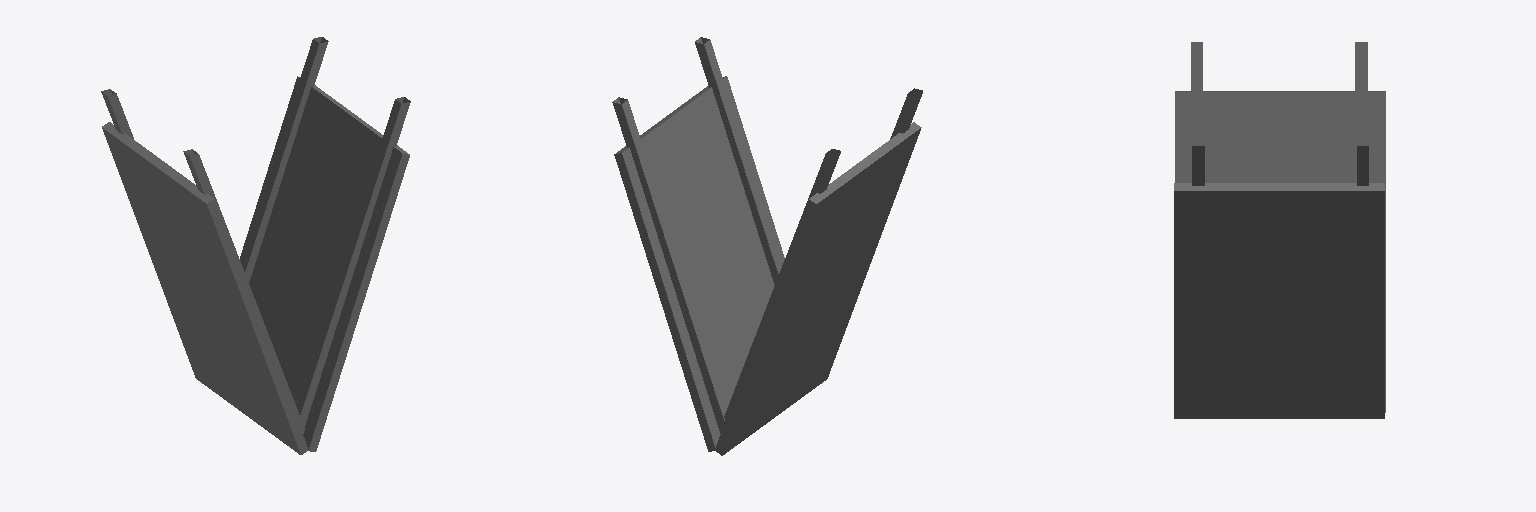
The model's file is cartel.obj.
The picture shows the model from 3 angles: view 1: azimuth 30°, elevation 25°; view 2: azimuth 150°, elevation 25°; view 3: azimuth 270°, elevation 25°; orthographic projection.
Parts seen in each view (by area): view 1: Cartelon_Untitled; view 2: Cartelon_Untitled; view 3: Cartelon_Untitled.
Boxes of the visible parts, x1,y1,x2,y2 form: Cartelon_Untitled: [101, 37, 410, 454]; Cartelon_Untitled: [612, 37, 922, 455]; Cartelon_Untitled: [1174, 42, 1385, 418].
Size of the model in its own units: 0.6388 by 0.8775 by 0.5266.